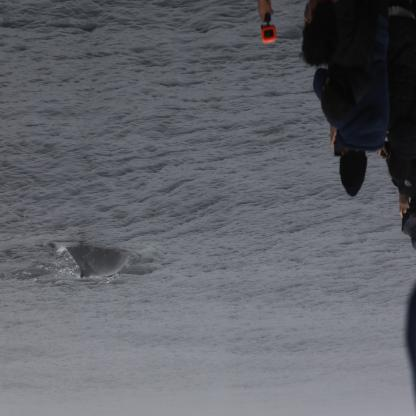dolphin-whale: (63, 240, 134, 288)
